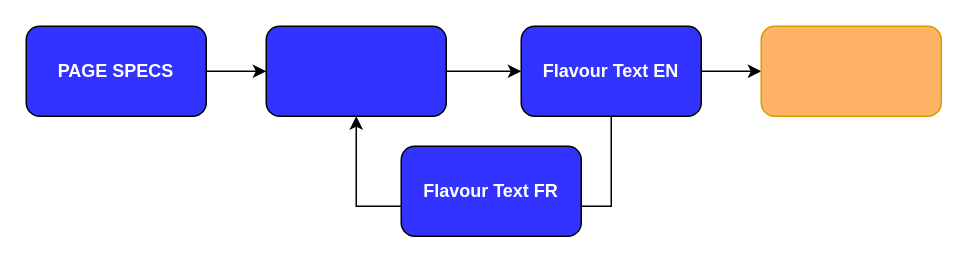
The diagram is 968 pixels wide and 263 high, and some of its shapes have lost their labels. The shapes that lost their labels are listed below. From the top down, each one's box as (x1, y1, x2, y2) in pixels, then its label:
(265, 25, 446, 116): HTML/BOOTSTRAP
(760, 25, 941, 116): FINISHED
